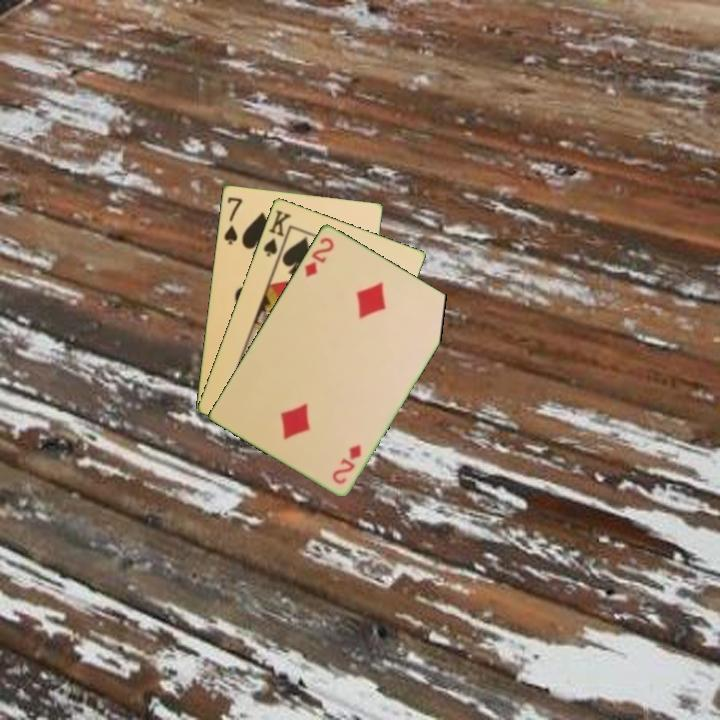2d: (301, 233, 337, 279), (328, 441, 364, 487)
7s: (220, 193, 245, 247)
Ks: (260, 206, 294, 263)
